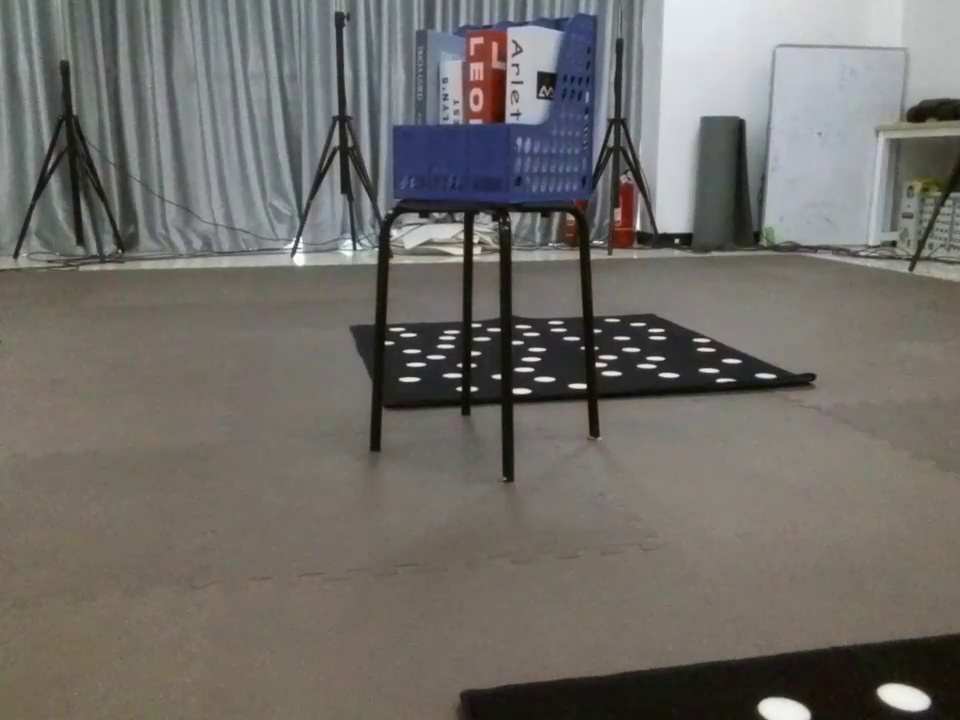files: (386, 10, 606, 214)
